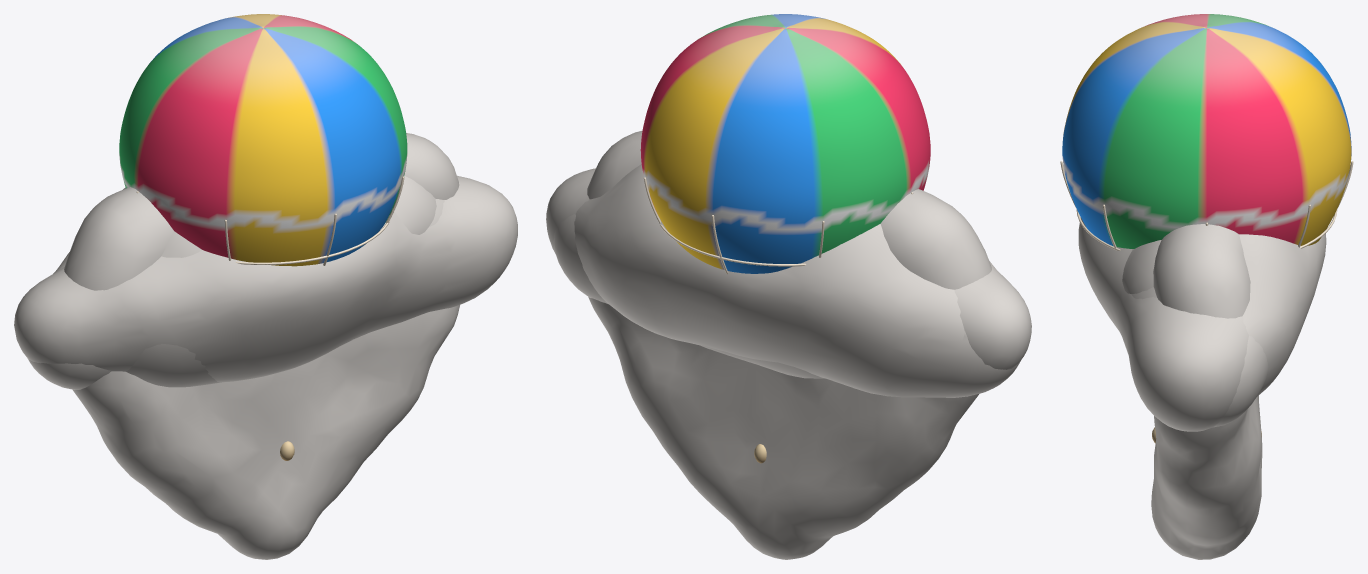
The model's file is sky.glb.
3 renders of one model, left to right at view 1: azimuth 30°, elevation 25°; view 2: azimuth 150°, elevation 25°; view 3: azimuth 270°, elevation 25°, orthographic.
Parts seen in each view (by area): view 1: BalloonA, HeartCloud, Cloud2, Cloud0, Cloud1; view 2: BalloonA, HeartCloud, Cloud0, Cloud2, Cloud1; view 3: BalloonA, HeartCloud, Cloud2, Cloud0, Cloud1.
Part boxes in pixels (bbox=[...]): BalloonA: bbox=[119, 14, 407, 460]; HeartCloud: bbox=[64, 133, 459, 559]; Cloud2: bbox=[14, 175, 517, 382]; Cloud0: bbox=[28, 176, 436, 389]; Cloud1: bbox=[126, 199, 444, 387]; BalloonA: bbox=[640, 14, 930, 463]; HeartCloud: bbox=[587, 130, 991, 559]; Cloud0: bbox=[574, 164, 1020, 397]; Cloud2: bbox=[546, 168, 1031, 369]; Cloud1: bbox=[553, 214, 823, 378]; BalloonA: bbox=[1060, 14, 1353, 443]; HeartCloud: bbox=[1151, 224, 1262, 559]; Cloud2: bbox=[1078, 217, 1248, 431]; Cloud0: bbox=[1122, 233, 1326, 396]; Cloud1: bbox=[1131, 249, 1268, 427].
Bounding box in the file's own units: 3.89 × 4.06 × 2.04.
